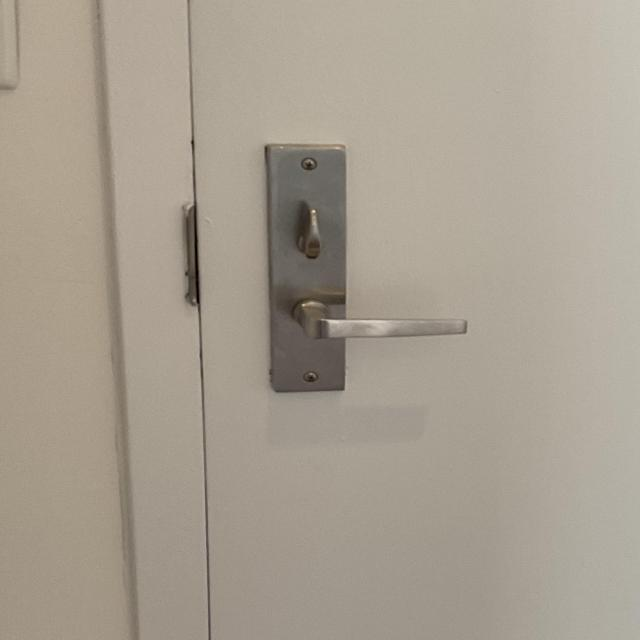doorhandle: (179, 280, 493, 371)
